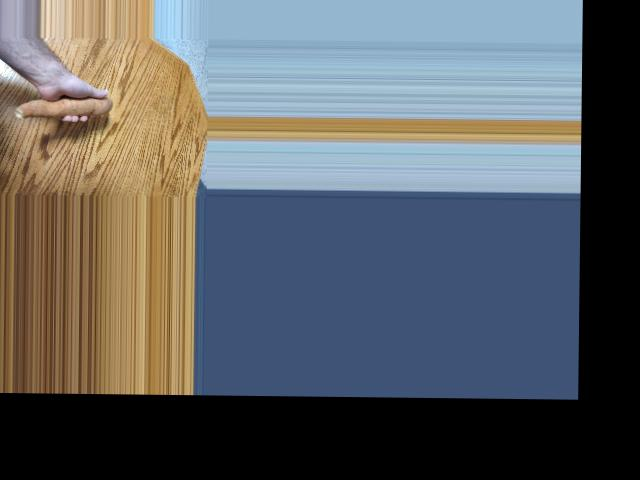sweet_potato: (13, 88, 109, 118)
